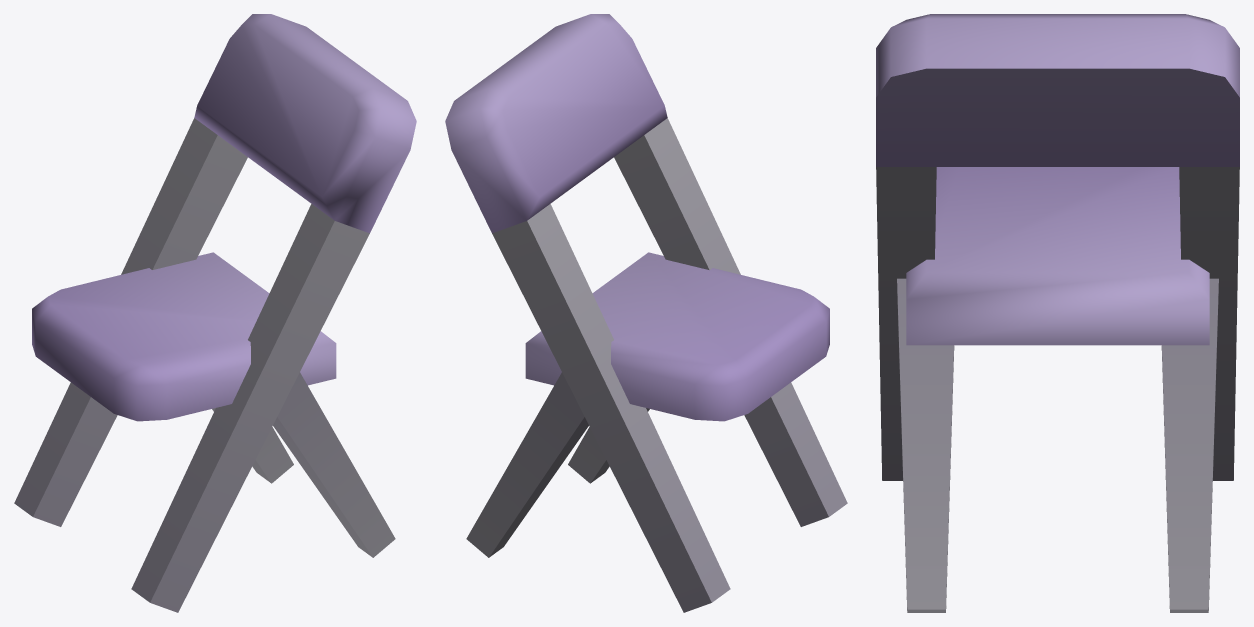
The model's file is folding-chair.glb.
3 renders of one model, left to right at view 1: azimuth 30°, elevation 25°; view 2: azimuth 150°, elevation 25°; view 3: azimuth 270°, elevation 25°, orthographic. The views are drawn at different scales.
Parts seen in each view (by area): view 1: folding-chair; view 2: folding-chair; view 3: folding-chair.
Boxes of the visible parts, x1,y1,x2,y2 form: folding-chair: (14,14,416,612); folding-chair: (445,14,847,612); folding-chair: (876,14,1239,612).
Bounding box in the file's own units: 0.4175 × 0.6535 × 0.36.
